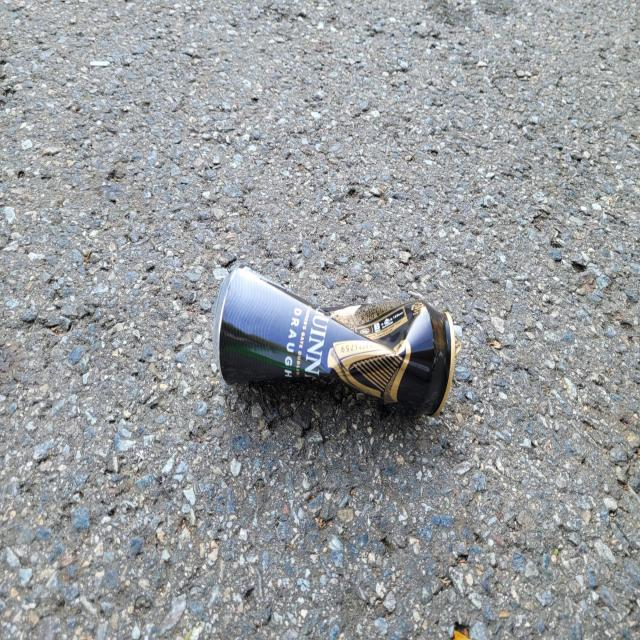can: (212, 267, 460, 416)
